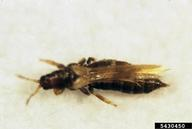Thrips: (16, 51, 176, 112)
